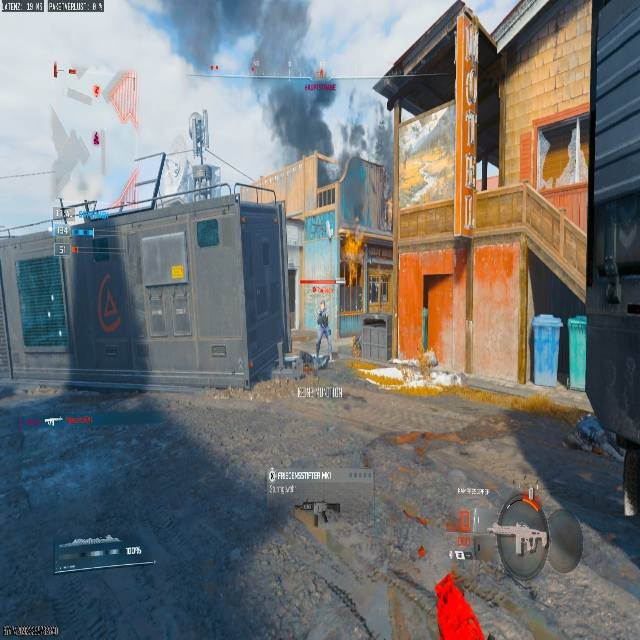player: (314, 305, 331, 352)
